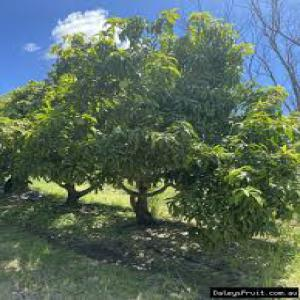Tree: (45, 8, 249, 226)
